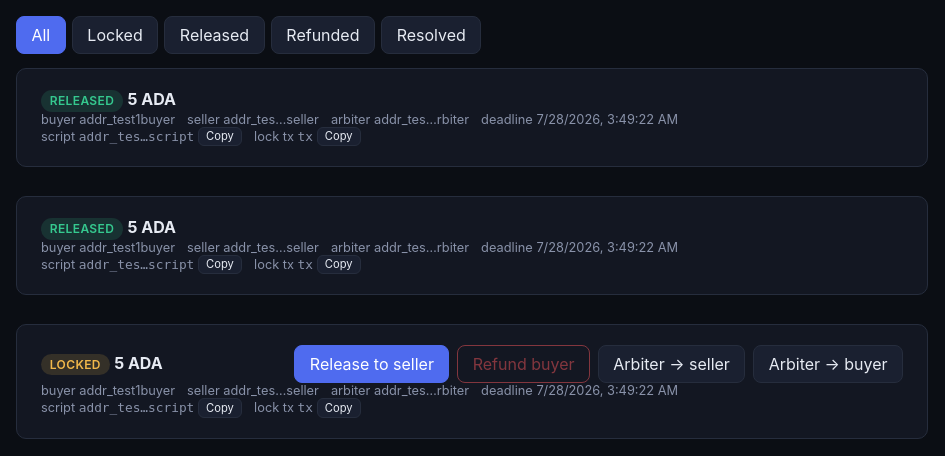
EscrowList › filters by status
The image size is (945, 456).
expect the text "Released" is shown 2 times: met, box [41, 90, 123, 112]; [41, 218, 123, 240]
expect the text "Locked" is shown once: met, box [41, 354, 110, 375]
Click the button "Locked".
click(115, 35)  # box [72, 16, 158, 54]
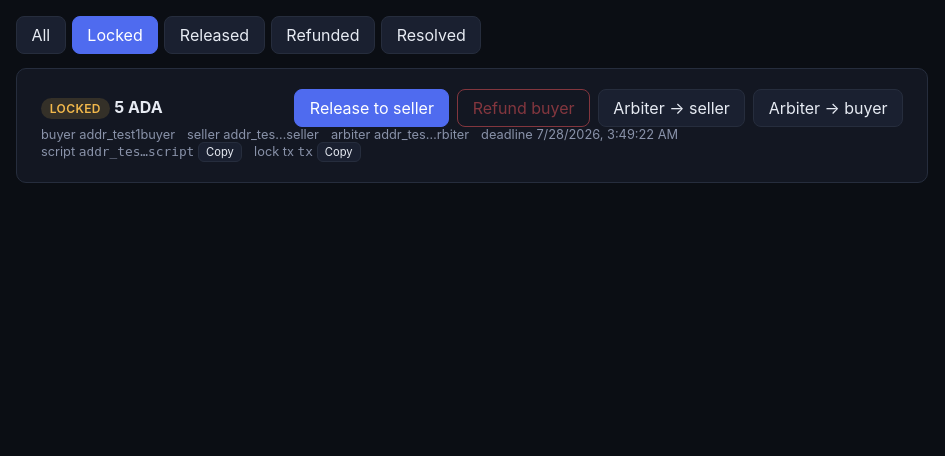
expect the text "Locked" is shown once: met, box [41, 98, 110, 120]
